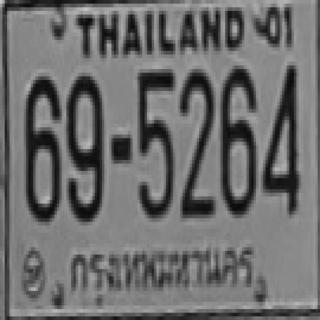N02: (178, 67, 213, 216)
N04: (261, 62, 299, 211)
N05: (135, 66, 173, 214)
N06: (219, 65, 255, 211), (24, 73, 59, 218)
N09: (64, 73, 102, 218)
P04: (62, 242, 260, 302)
